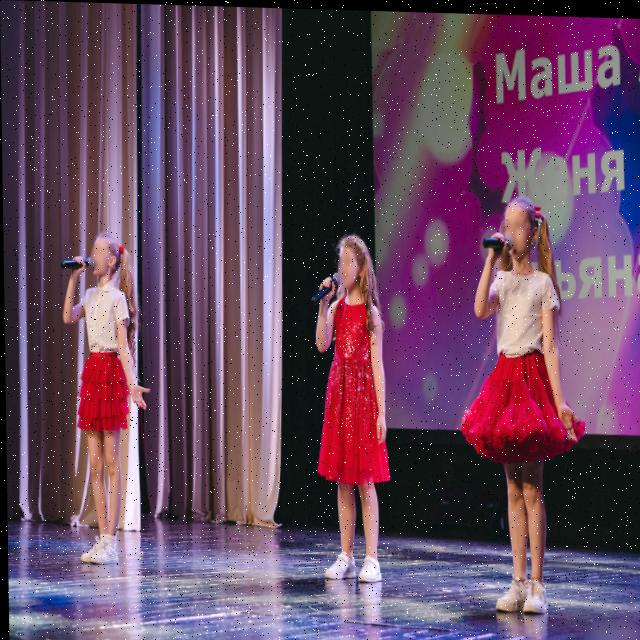Person: (467, 168, 588, 623), (50, 226, 159, 580), (305, 220, 398, 592)
